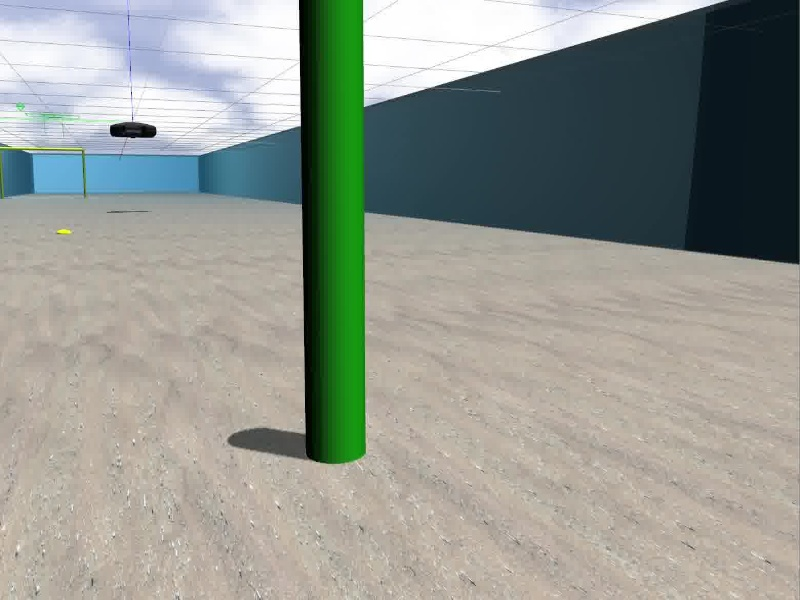gate: (1, 147, 87, 197)
